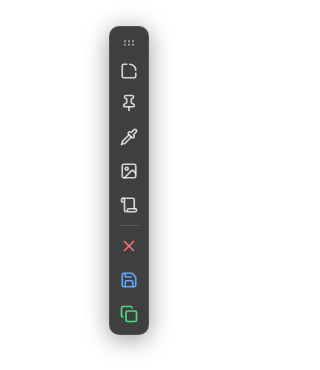
Test: Toolbar › Toolbar corner radius control › opens the scrollable corner radius panel when clicked
Click the button named "Corner radius: 0": (129, 71) [113,55,145,87]
(page scrolled)
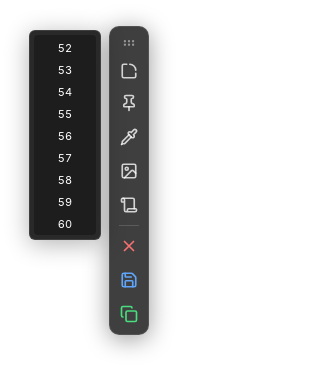
Result: the button named "Corner radius: 60" is shown at [34,213,96,235]
